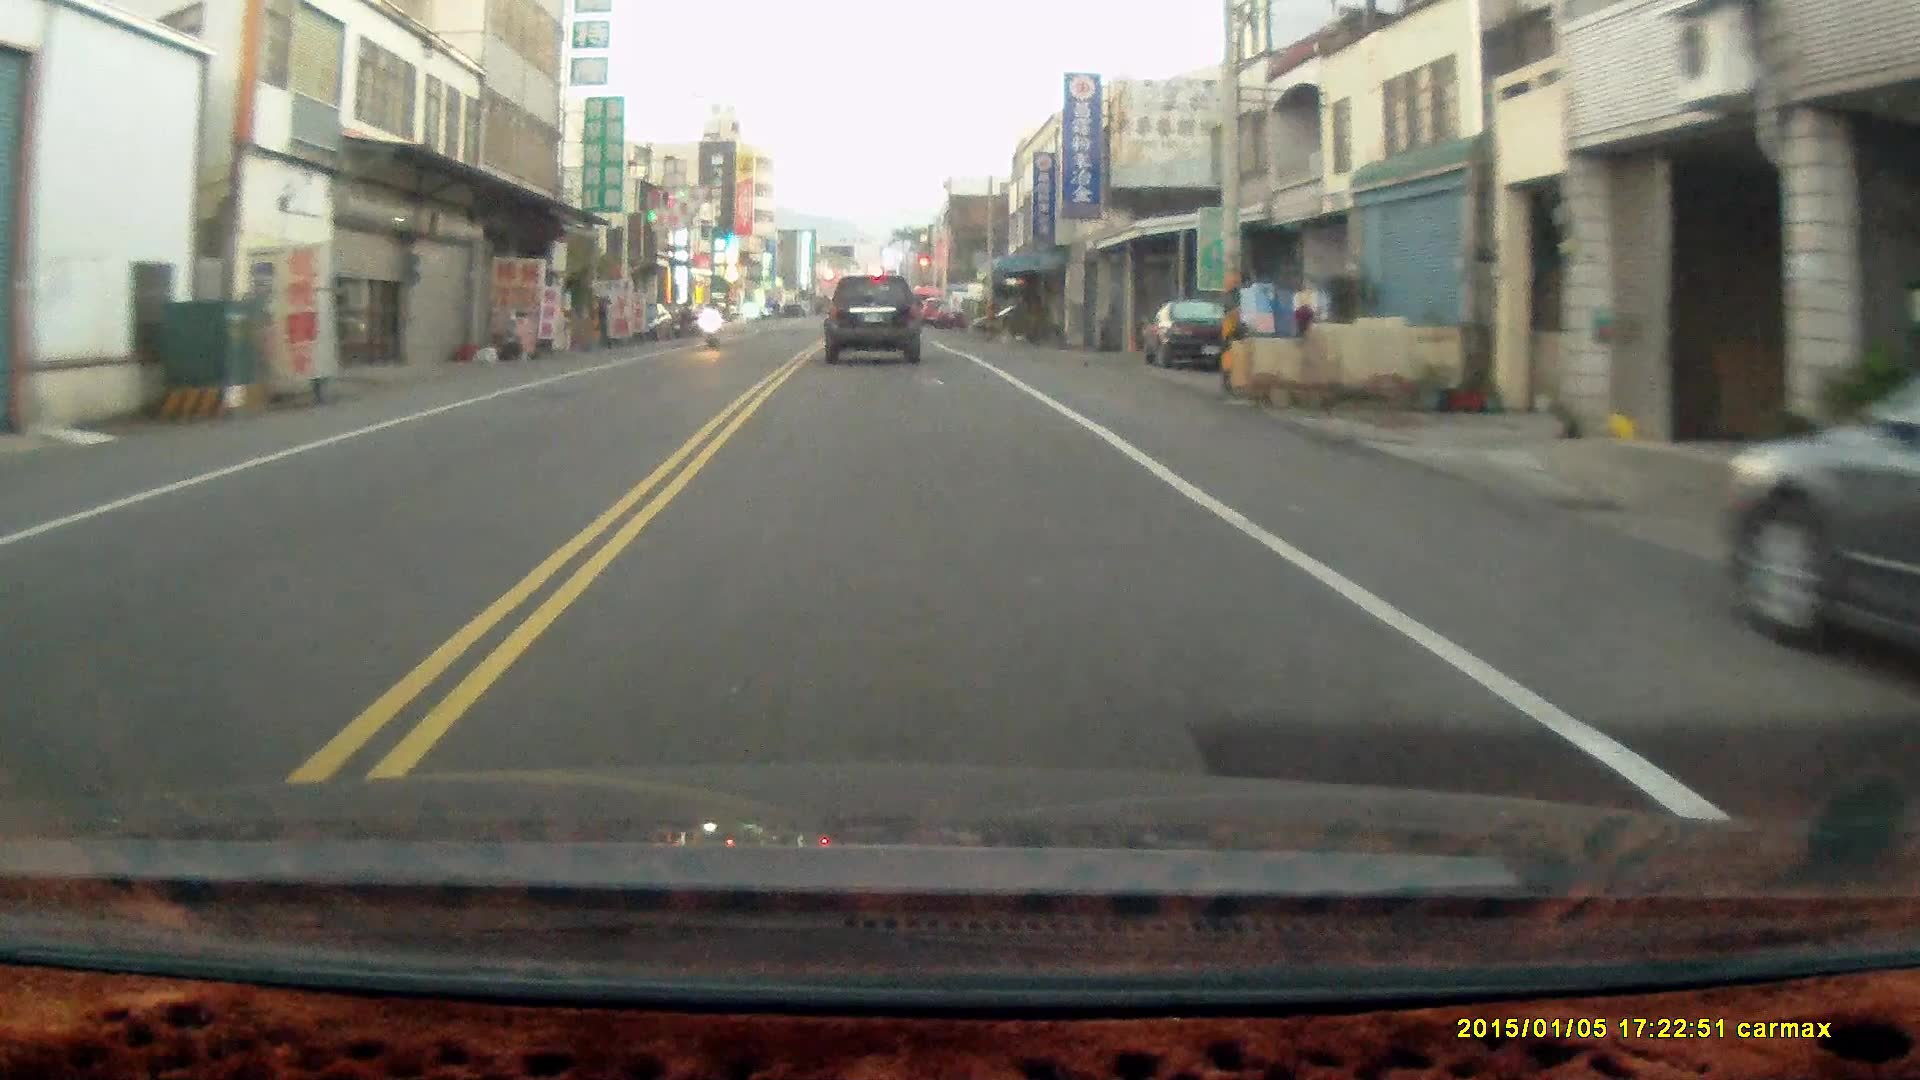pedestrian: (589, 292, 610, 351)
rider: (693, 292, 720, 347)
vehicle: (824, 276, 925, 369), (1144, 299, 1256, 376)
